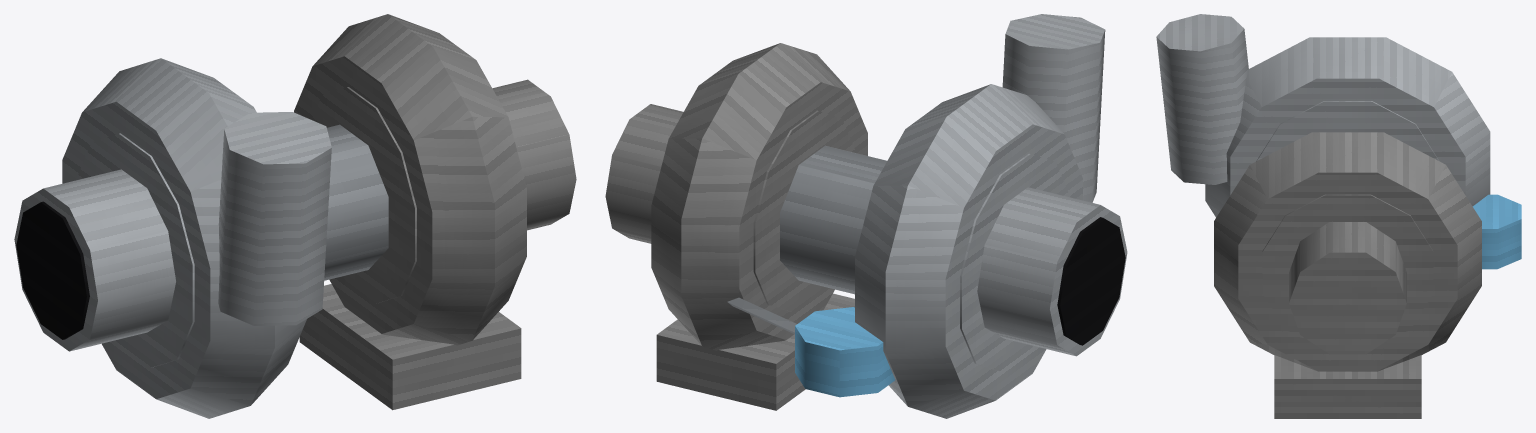
The model's file is turbo_n1.glb.
The picture shows the model from 3 angles, left to right: view 1: azimuth 30°, elevation 25°; view 2: azimuth 150°, elevation 25°; view 3: azimuth 270°, elevation 25°; orthographic projection. The views are drawn at different scales.
Parts seen in each view (by area): view 1: turbo_n1; view 2: turbo_n1; view 3: turbo_n1.
Part boxes in pixels (x1,y1,x2,y2): turbo_n1: (14,14,576,418); turbo_n1: (605,14,1127,418); turbo_n1: (1156,14,1521,418).
Size of the model in its own units: 0.3271 by 0.2246 by 0.2674.
Materials: 2 (2 with a texture image).
